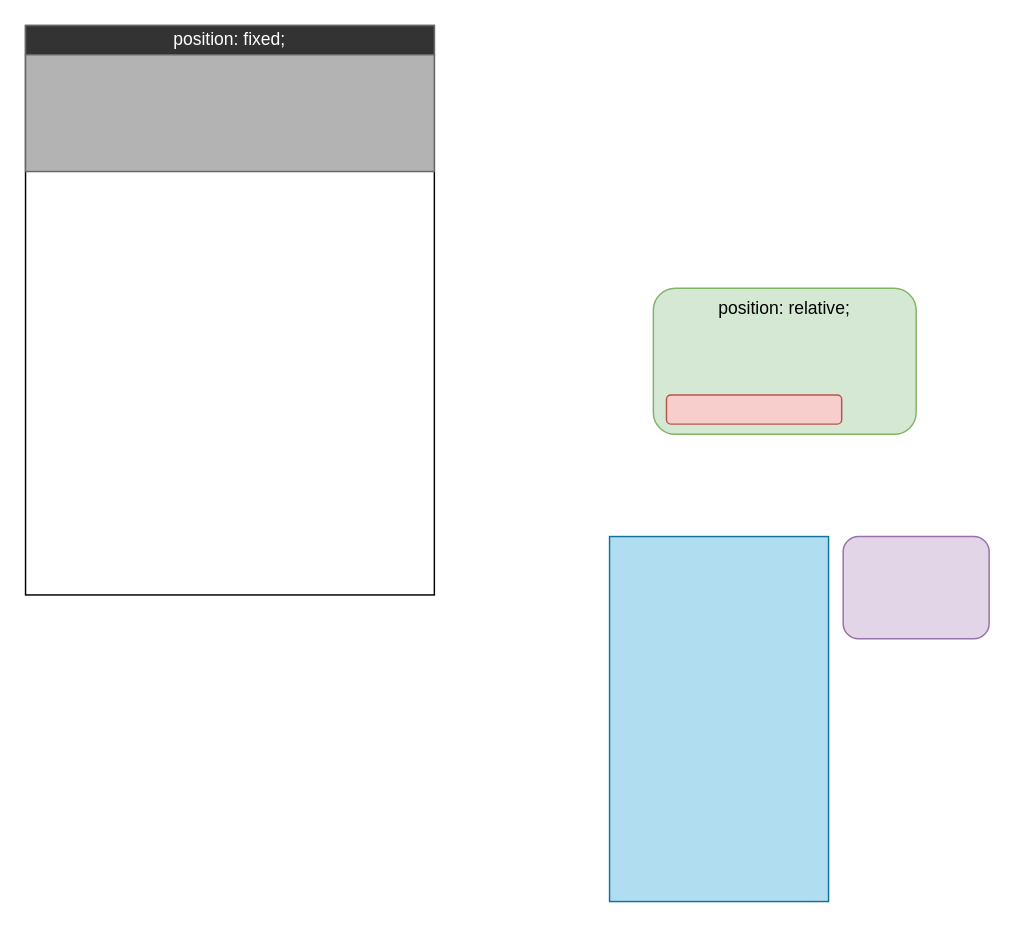
This 1015x927 diagram has some shape labels left out. The centre of each missing label's shape, as x and y in pixels:
position: absolute ;: the point at 753,408
position: sticky;: the point at 915,587
